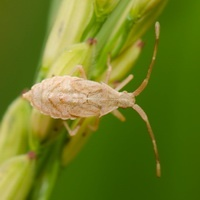insect: (22, 21, 160, 176)
